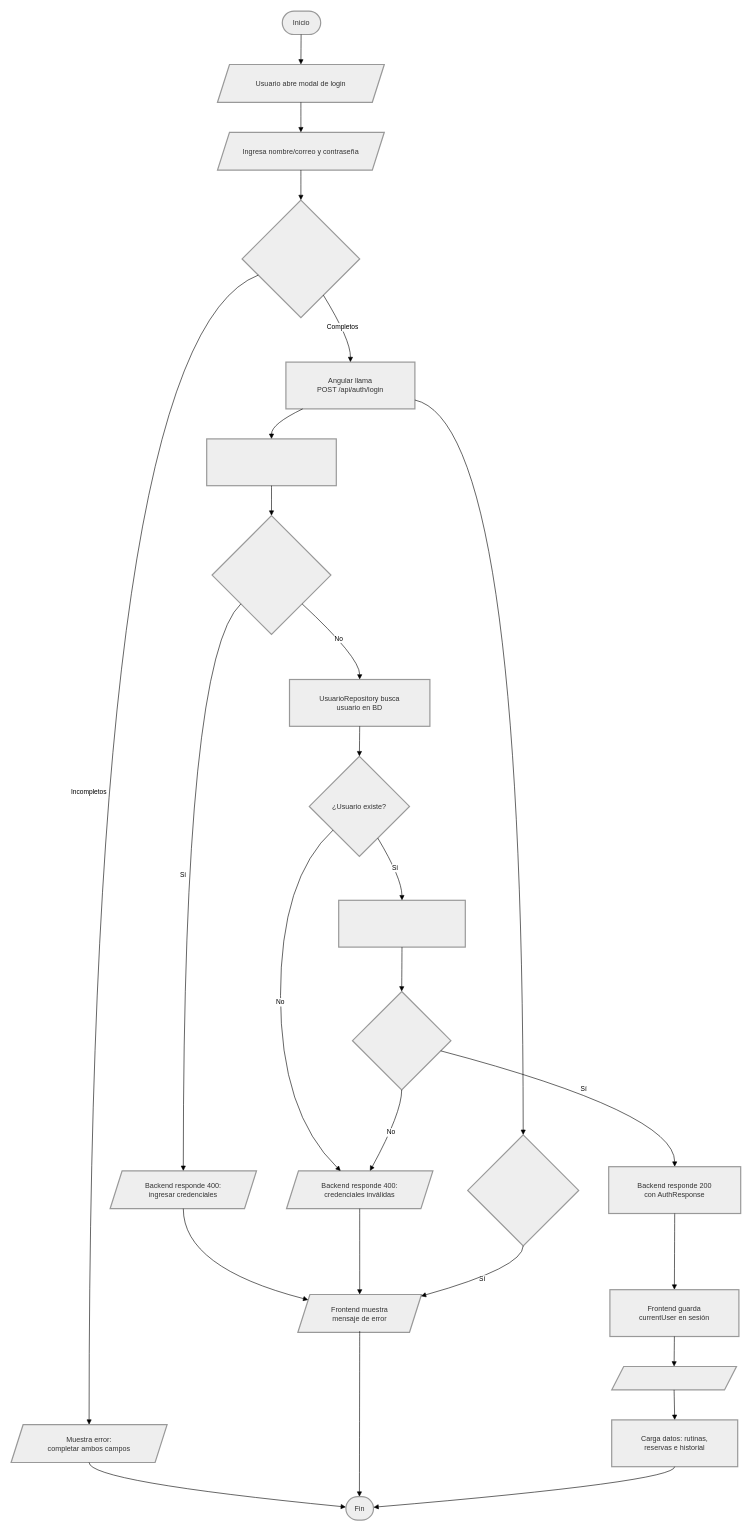
The diagram is 751 pixels wide and 1531 high, and some of its shapes have lost their labels. The shapes that lost their labels are listed below. From the top down, each one's centre as x and y in pixels, then its label:
At (x=300, y=258): "¿Frontend valida campos vacíos?".
At (x=271, y=462): "AuthController recibe LoginRequest".
At (x=271, y=575): "¿Nombre o password vacíos?".
At (x=402, y=923): "PasswordHashService verifica contraseña".
At (x=401, y=1040): "¿Contraseña válida?".
At (x=523, y=1190): "¿Error HTTP o servidor caído?".
At (x=674, y=1378): "Cierra modal de login".
